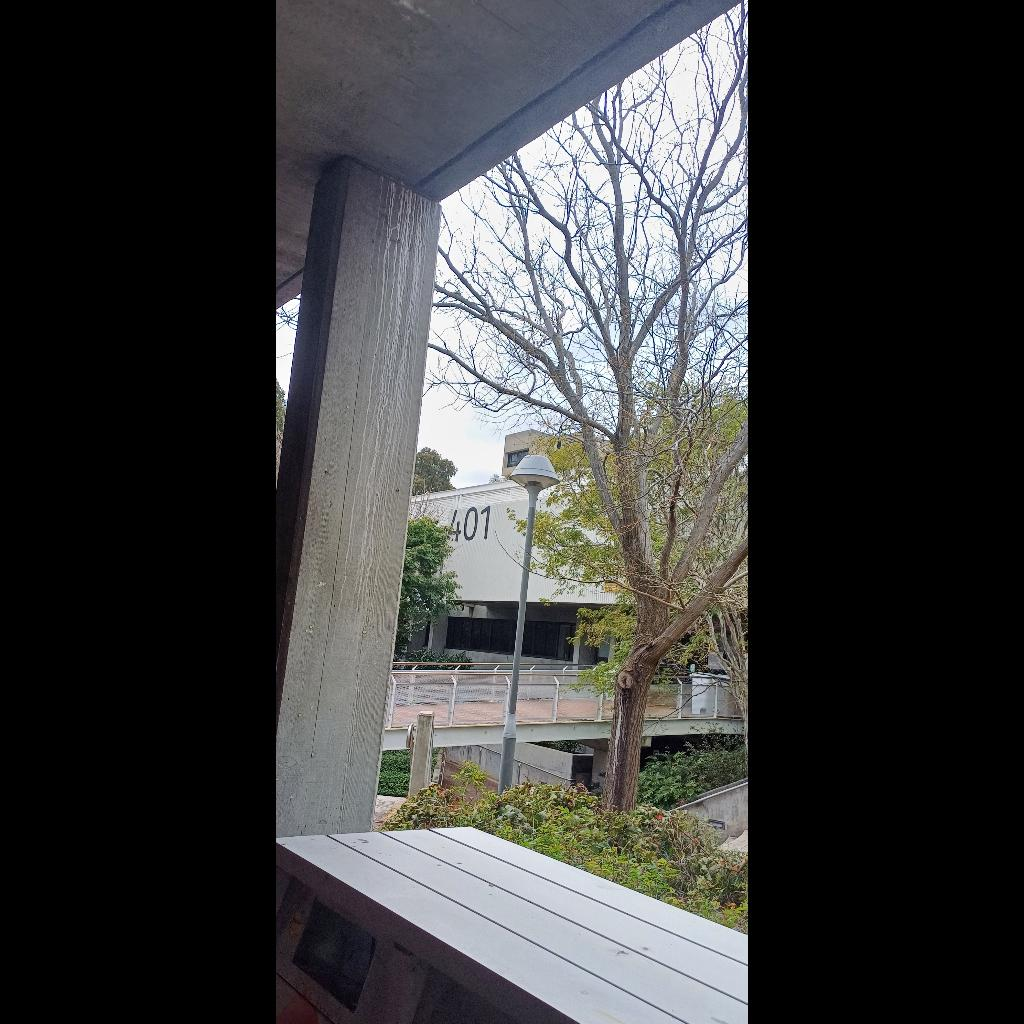BuildingCodes: (444, 507, 492, 543)
